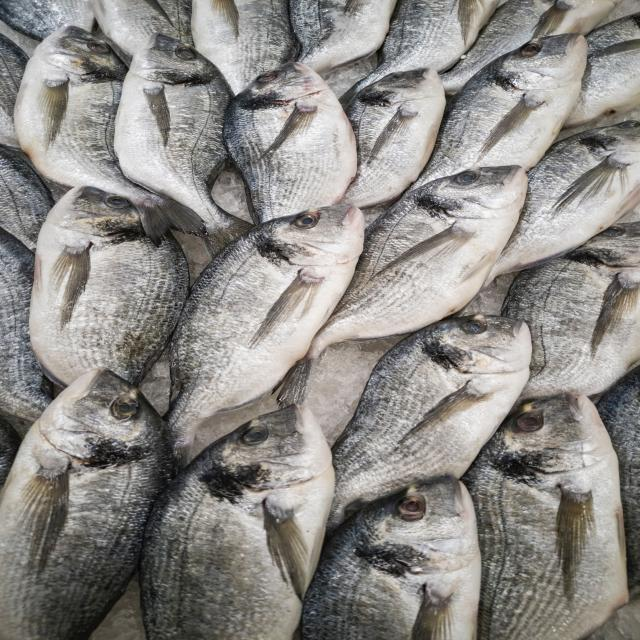Fish: (21, 377, 202, 639), (485, 384, 640, 639), (191, 404, 339, 640), (204, 203, 348, 407), (27, 188, 168, 380), (338, 473, 498, 640), (376, 324, 535, 476), (15, 13, 134, 215), (454, 23, 592, 196), (222, 42, 348, 224), (115, 22, 222, 234), (344, 60, 450, 237), (413, 160, 517, 310), (554, 100, 638, 262)
